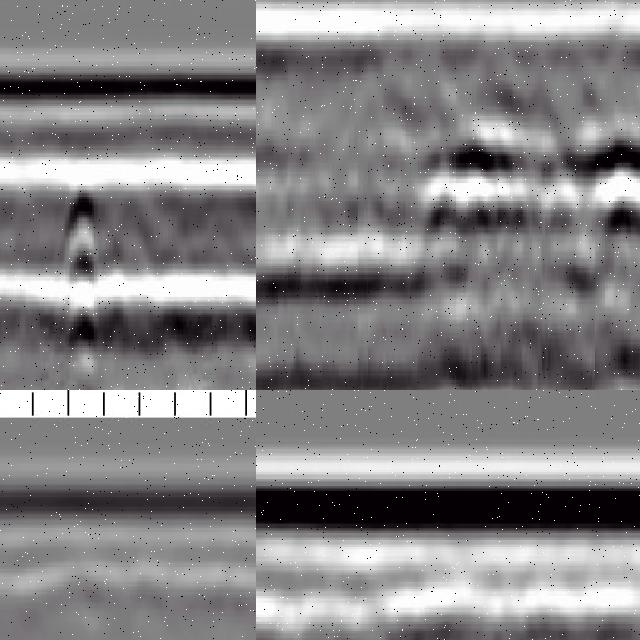crack: (49, 169, 106, 391)
loose: (417, 114, 640, 246)
